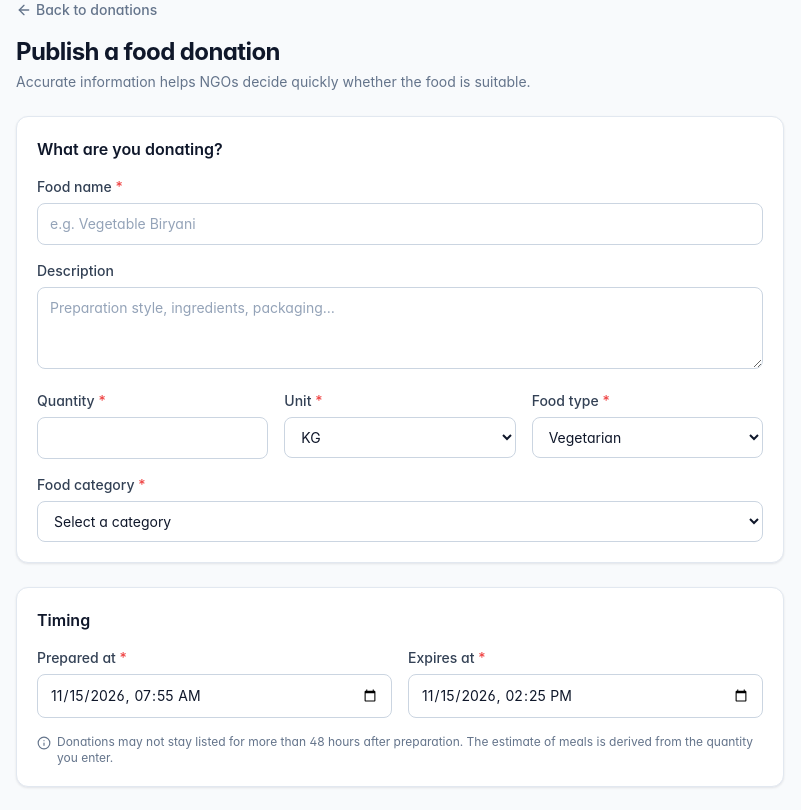
Test: DonationFormPage validation › rejects a non-positive quantity
Type "0" into the number field labelled "Quantity *" at {"x": 153, "y": 438}, box [37,417,268,459]
(page scrolled)
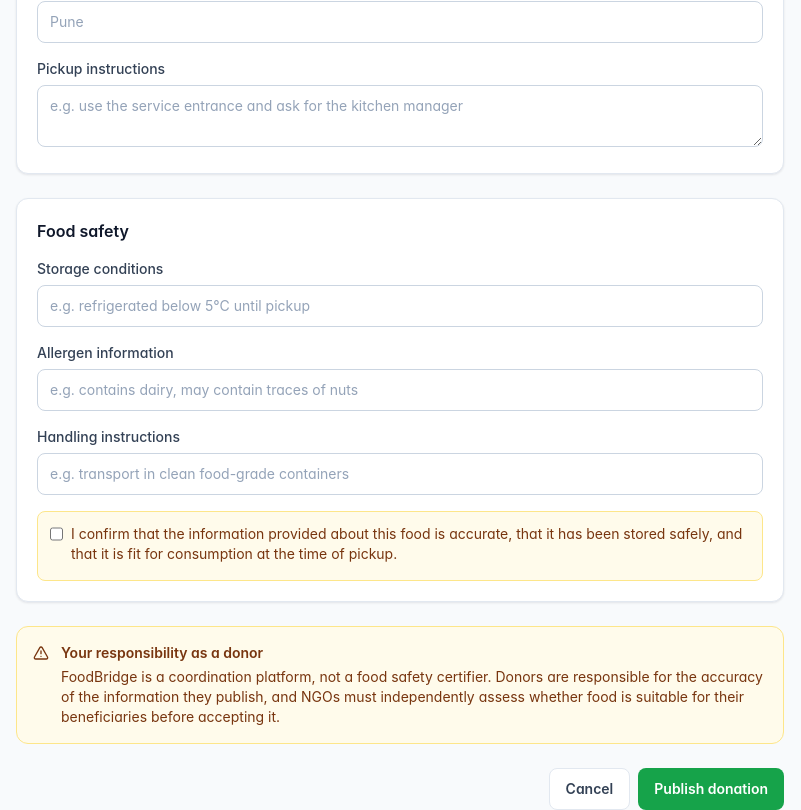
Click the button "Publish donation" at {"x": 711, "y": 789}, box [638,768,784,809]
(page scrolled)
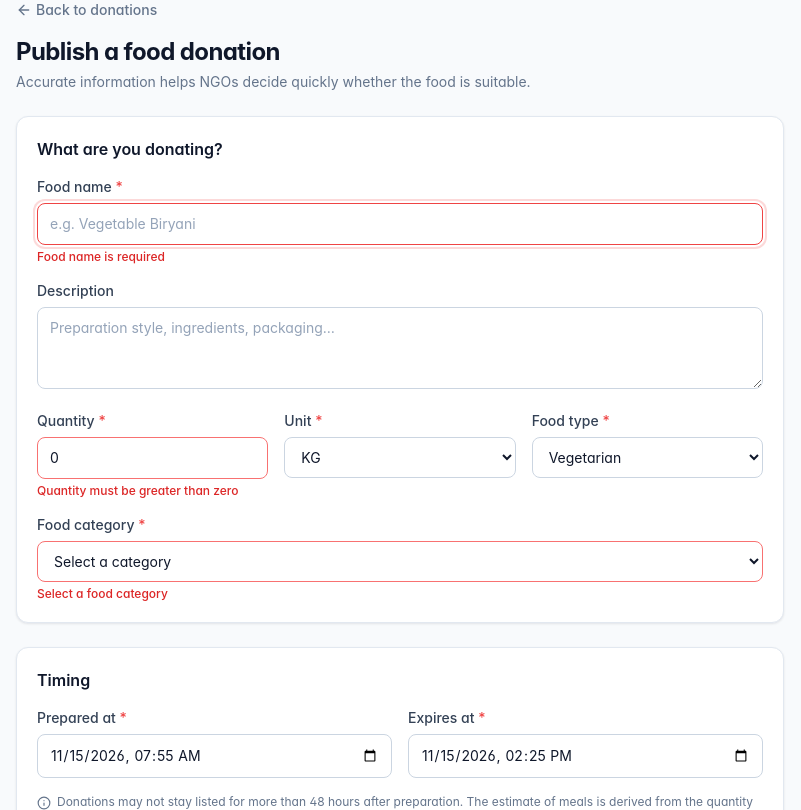
Result: the text "Quantity must be greater than zero" is shown at [37,483,268,499]
